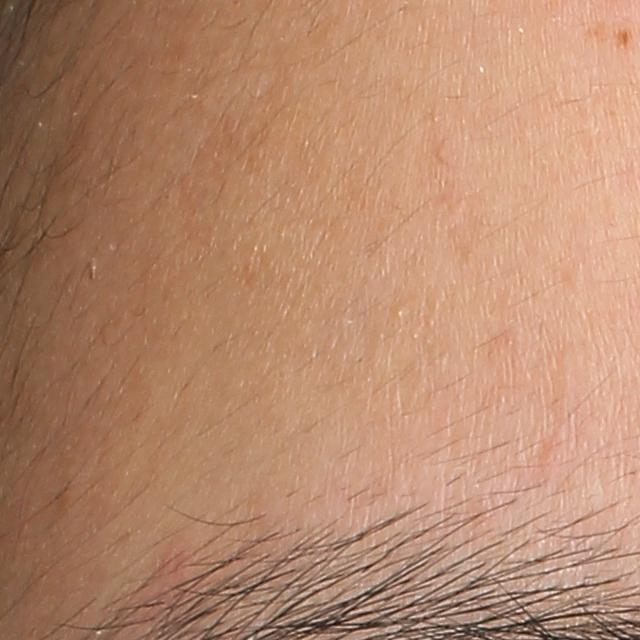nevus: (614, 26, 632, 47)
